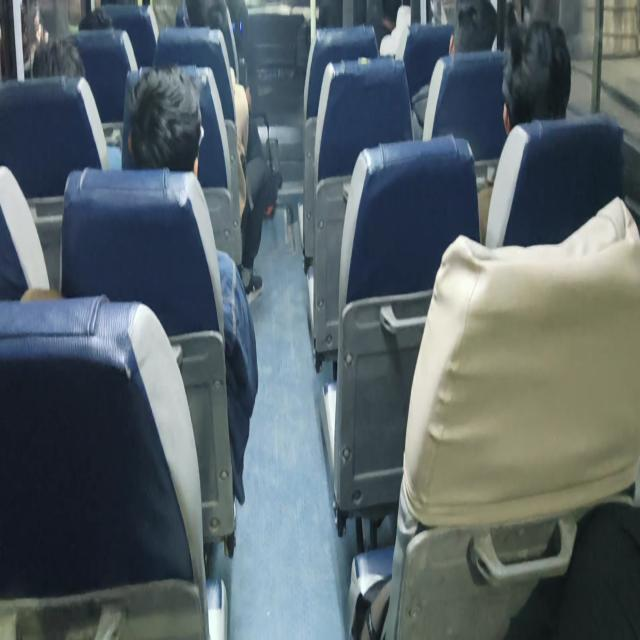person: (121, 65, 259, 506), (185, 0, 281, 304), (476, 17, 572, 242), (412, 0, 498, 133), (124, 65, 203, 176), (501, 18, 572, 136), (447, 0, 498, 55), (31, 35, 86, 79)
